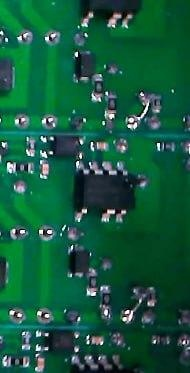chip-capacitor: (89, 140, 110, 152), (85, 334, 105, 346), (39, 159, 50, 180), (34, 353, 46, 372)
chip-resistor: (5, 160, 35, 176), (103, 89, 118, 120), (1, 354, 30, 368), (91, 73, 104, 102), (99, 285, 113, 310), (145, 285, 158, 307), (25, 135, 37, 158), (87, 271, 99, 294), (155, 141, 177, 153), (21, 330, 32, 352), (151, 335, 172, 345), (152, 94, 163, 113)
diode: (66, 243, 91, 279), (73, 48, 94, 83)
ic: (73, 157, 138, 225), (38, 133, 85, 160), (33, 328, 81, 354)
